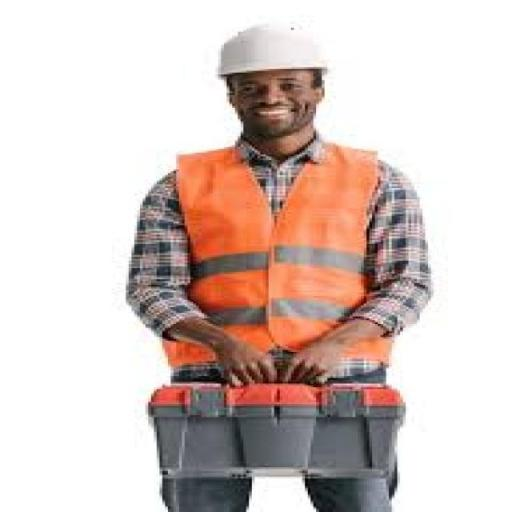Person: (105, 3, 437, 489)
helmet: (208, 19, 342, 81)
vest: (158, 133, 406, 374)
